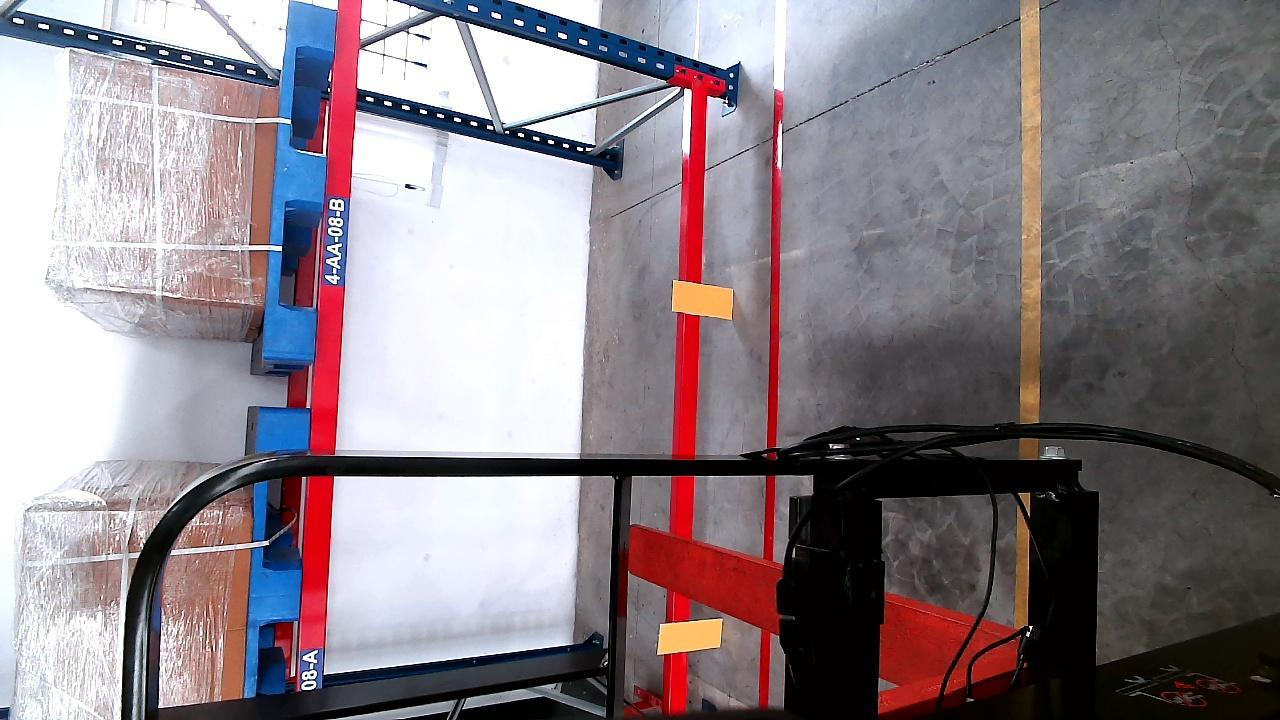red_line: (765, 30, 790, 440)
yellow_line: (1019, 3, 1044, 422)
